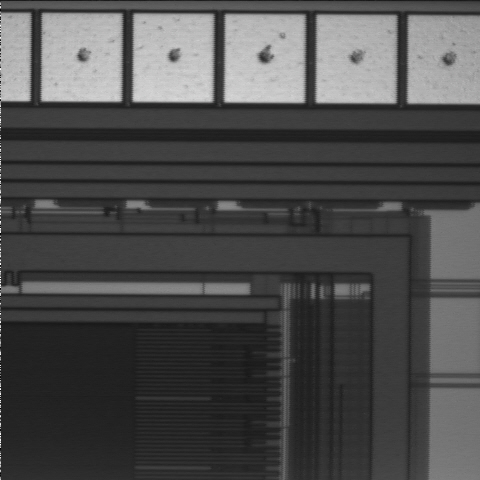pad: (42, 14, 121, 101), (133, 15, 212, 102), (225, 15, 304, 102), (317, 16, 395, 103)
